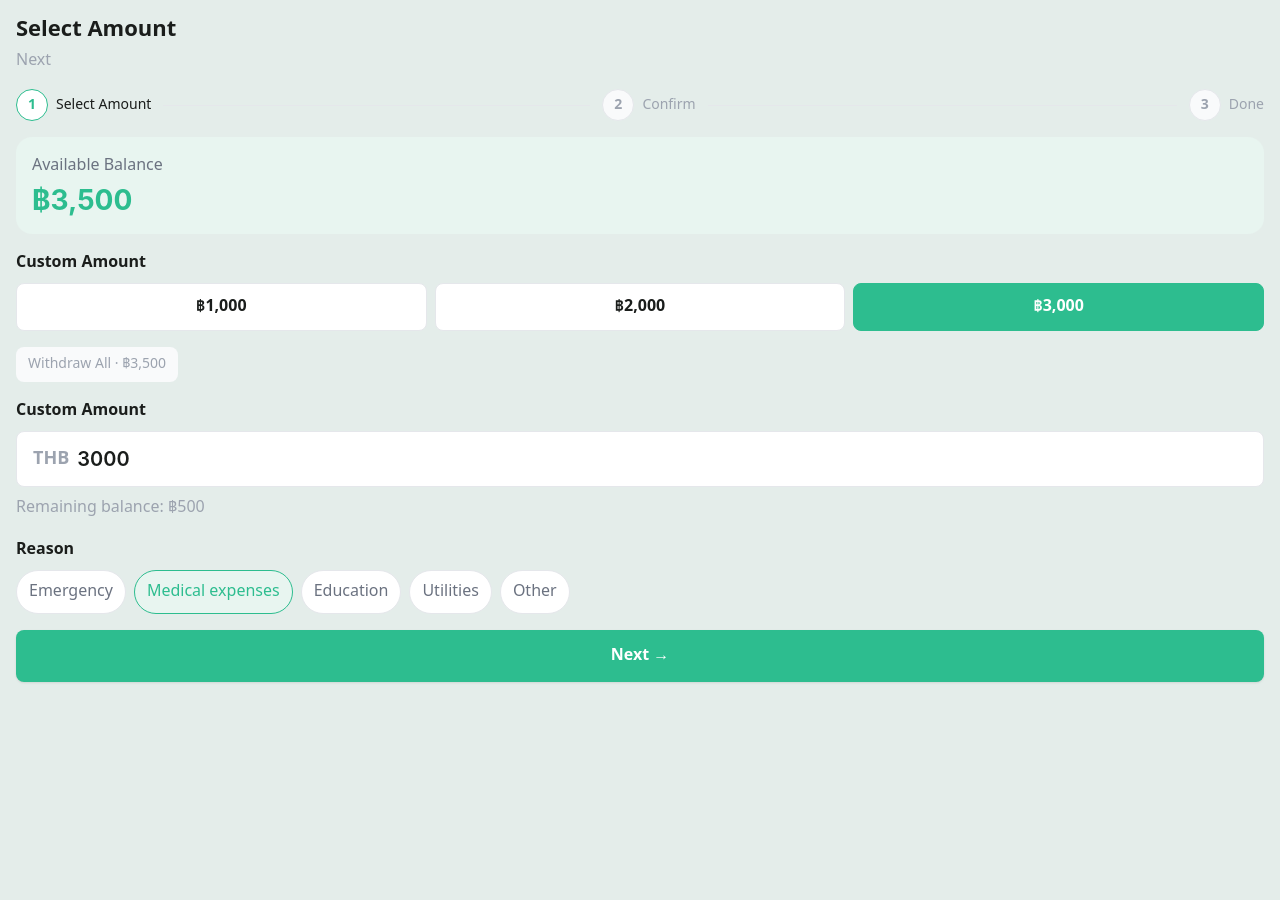
EmployeeRequestPage — step 1 › shows validation error when amount exceeds limit
Replace the text in the number field with "9999": (662, 459) x1=77 y1=443 x2=1247 y2=475
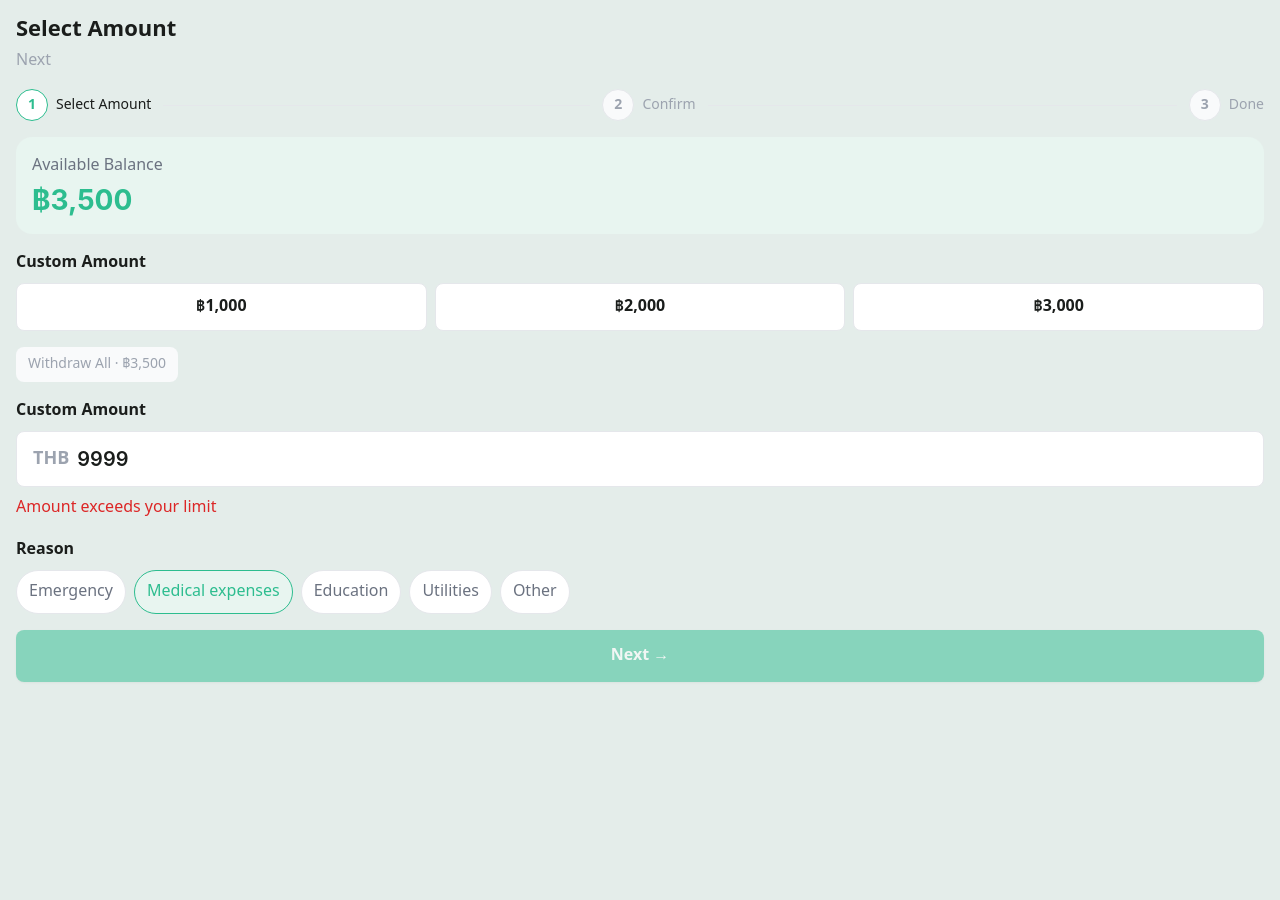
Expected: the text "Amount exceeds your limit" is shown, x1=16 y1=495 x2=216 y2=519
